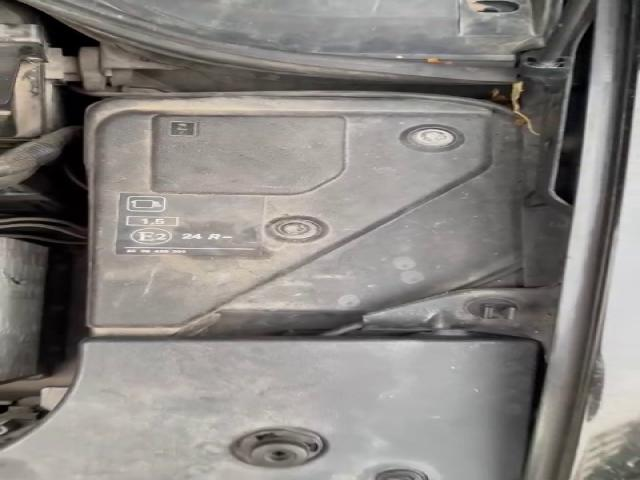fuse_box: (90, 110, 493, 329)
